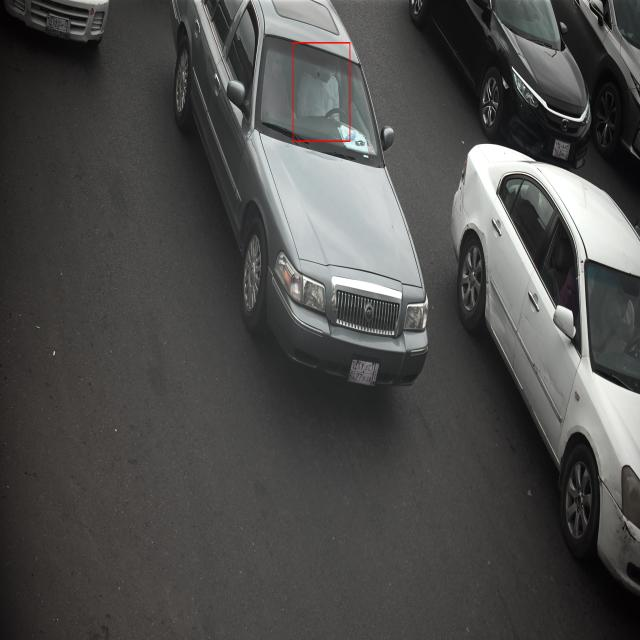windshield: (254, 32, 384, 178), (582, 249, 640, 398)
